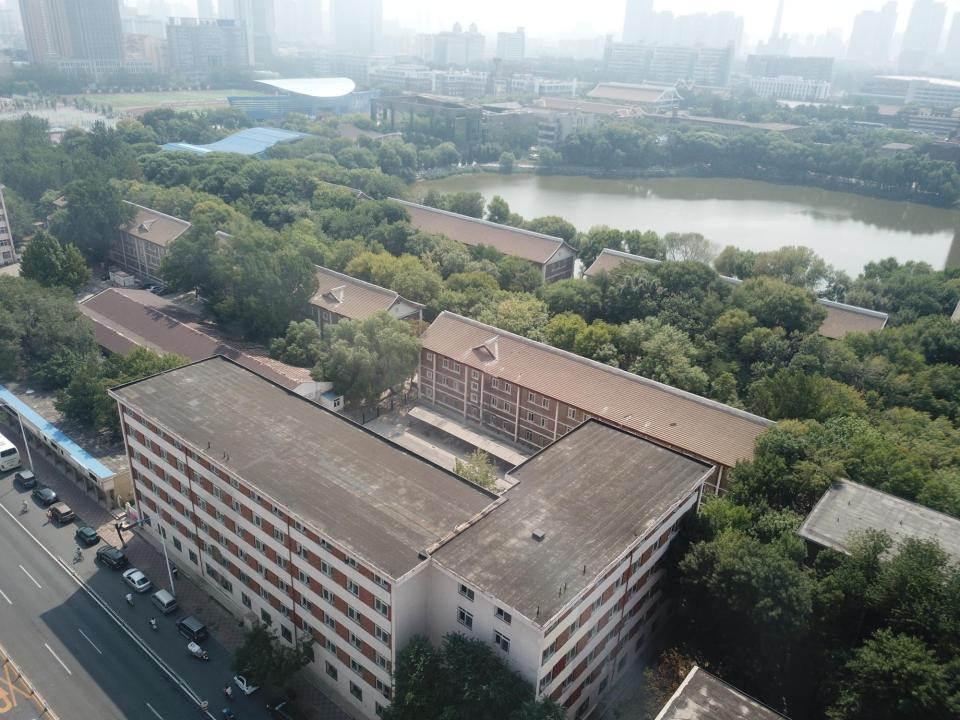car: (266, 697, 310, 719), (96, 545, 128, 570), (122, 568, 152, 592), (234, 668, 260, 694), (49, 502, 75, 522), (76, 524, 101, 544), (33, 485, 58, 504), (15, 470, 38, 488), (157, 287, 177, 296), (146, 285, 165, 294), (138, 282, 157, 290), (101, 273, 121, 280)
van: (175, 615, 209, 643), (150, 588, 177, 614)
